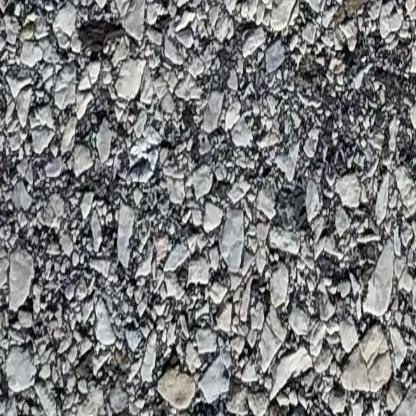Cracks: (0, 0, 107, 23)
